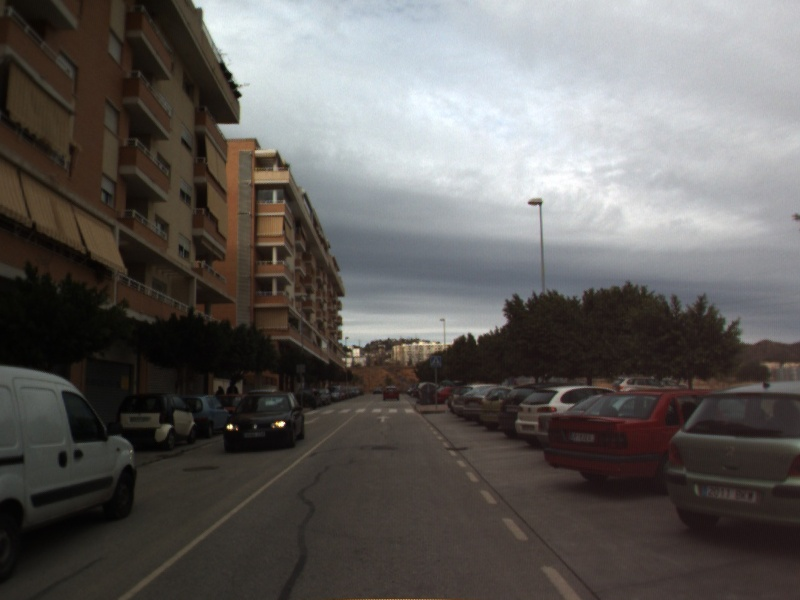STRAIGHT: (375, 413, 393, 424)
